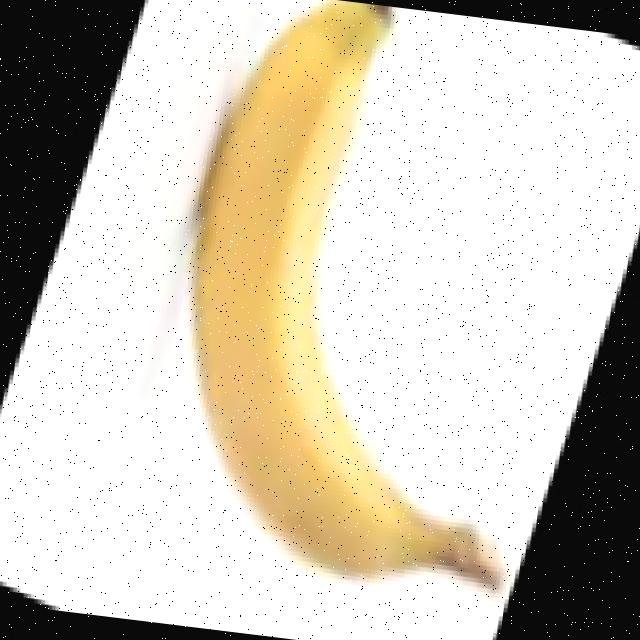banana: (151, 0, 569, 599)
